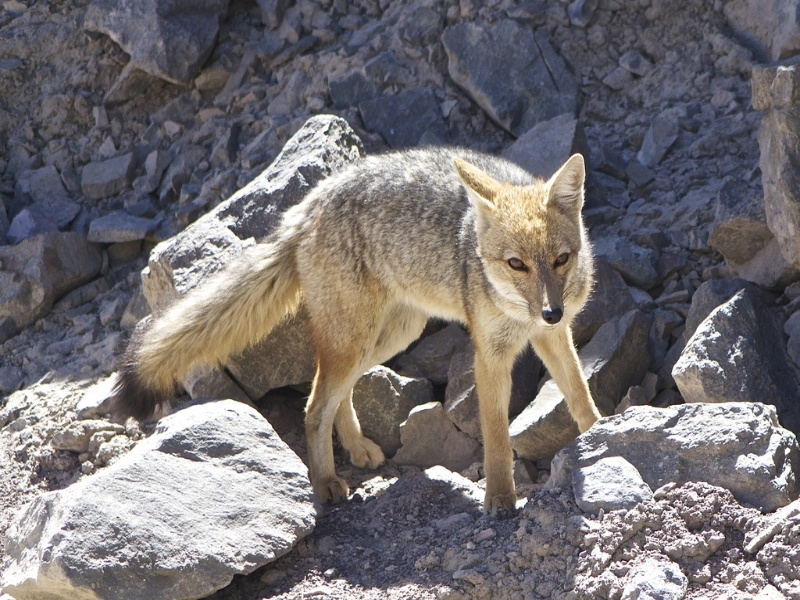fox: (125, 136, 609, 535)
